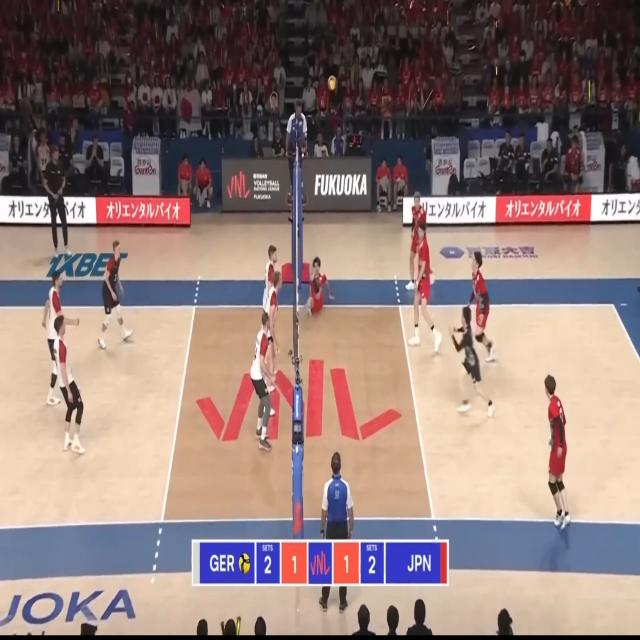ball: (328, 75, 337, 90)
